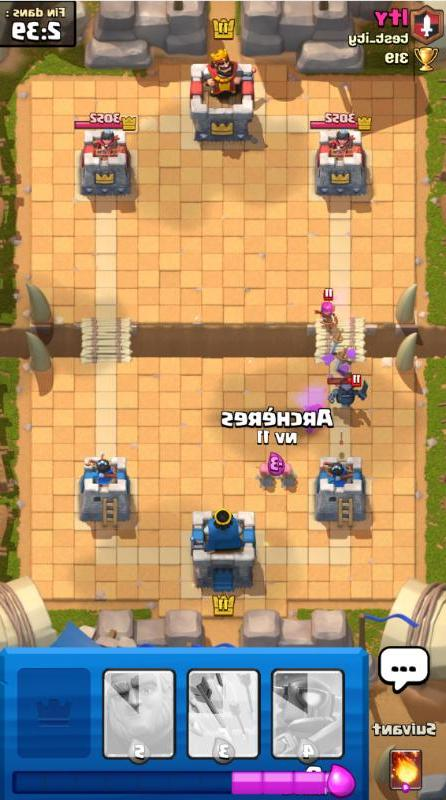archere: (315, 287, 340, 333), (254, 462, 277, 490), (276, 462, 297, 490)
mini_PEKKA: (325, 375, 369, 409)
